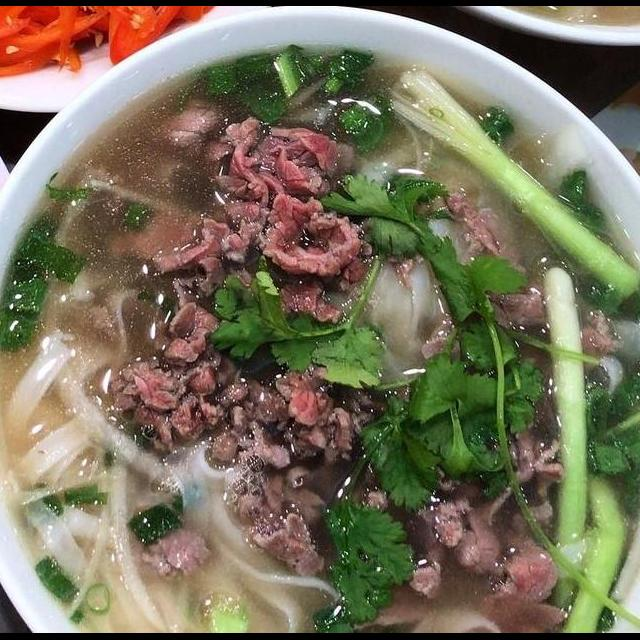banh pho: (0, 323, 169, 629), (147, 432, 346, 634), (350, 247, 459, 393)
pho bo: (0, 43, 640, 633)
thit bo: (381, 444, 574, 634), (201, 102, 379, 286), (99, 298, 257, 462), (405, 482, 575, 634), (272, 352, 387, 477)
